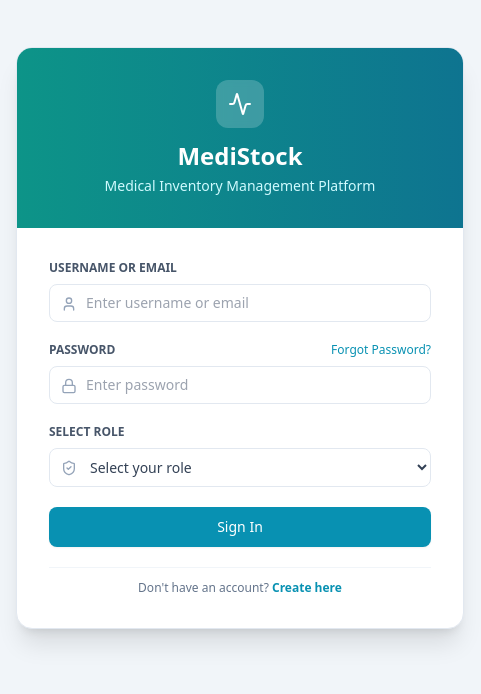
Test: MediStock Frontend Components › Login Page and Role Dropdown › displays error message when backend returns role mismatch error
Step 1. Type "pharmacist" into the field with placeholder "Enter username or email" → [240, 303], box [49, 284, 431, 322]
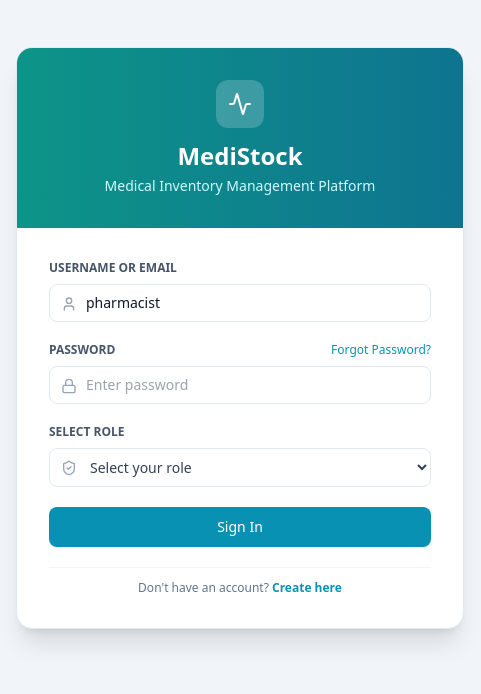
Step 2. Type "secret" into the password field with placeholder "Enter password" → [240, 385], box [49, 366, 431, 404]
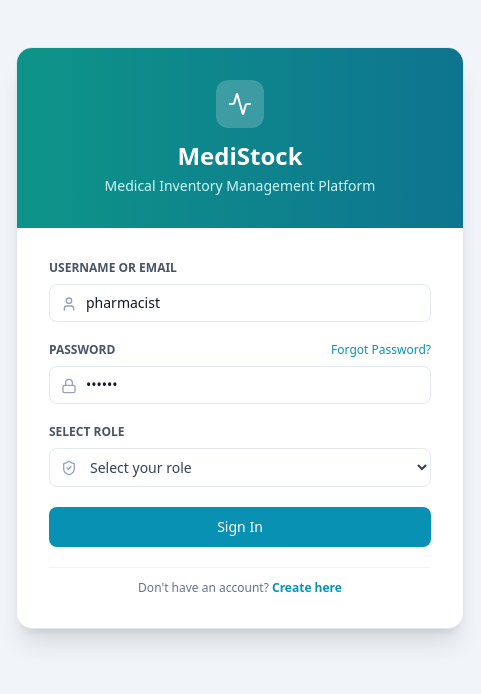
Step 3. Select "Supplier" in the dropdown → [240, 468], box [49, 448, 431, 487]
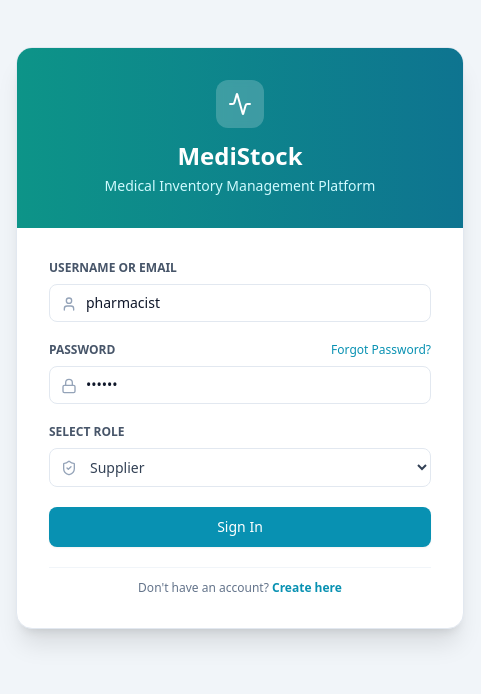
Step 4. Click the button "Sign In" → [240, 527], box [49, 507, 431, 547]
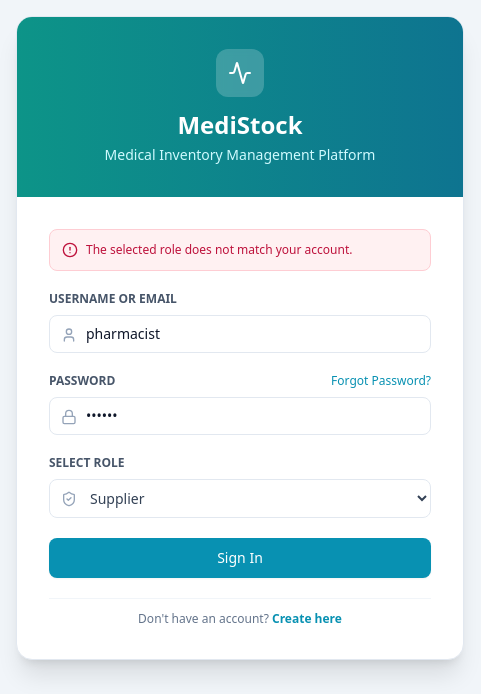
expect the text "The selected role does not match your account." is shown: met, box [86, 242, 352, 258]
